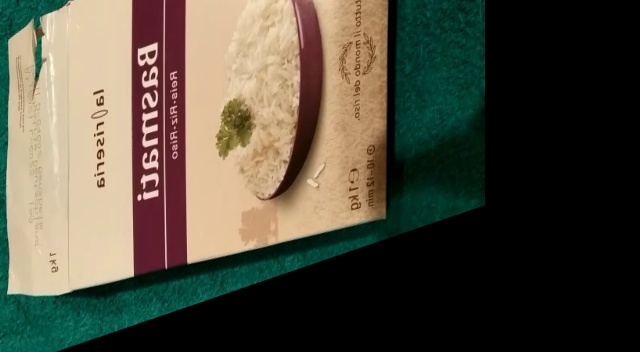basmati_rice: (10, 10, 395, 342)
